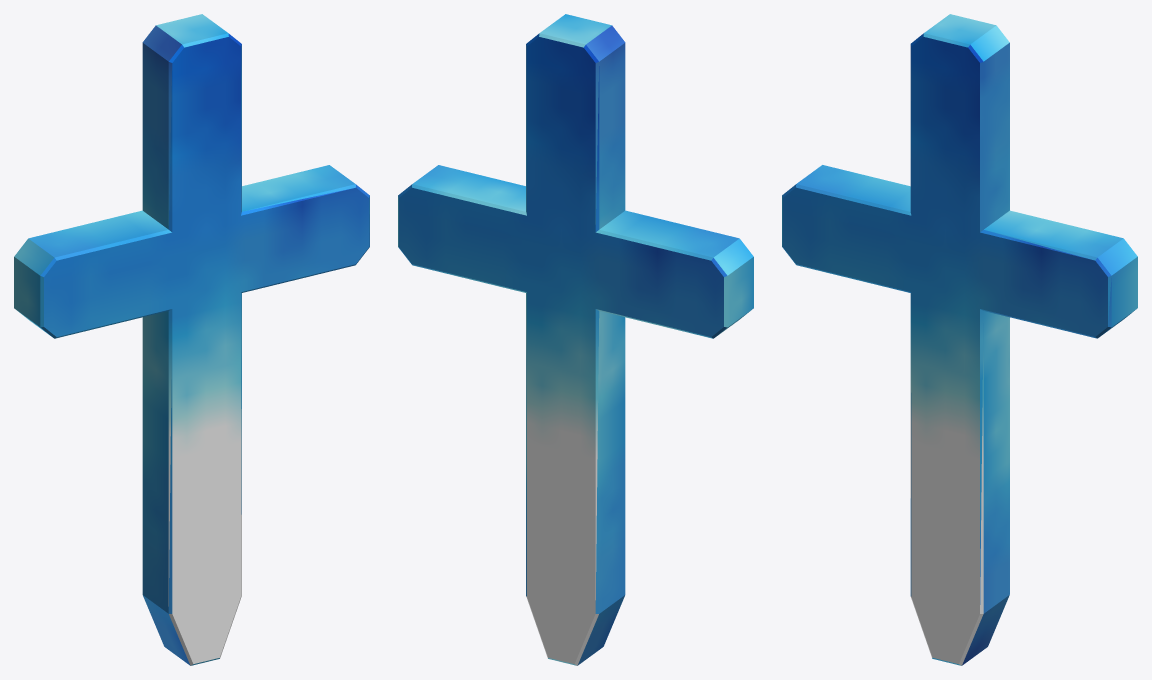
File: particle_2017_skill5_cross.FBX
The picture shows the model from 3 angles, left to right: view 1: azimuth 30°, elevation 25°; view 2: azimuth 150°, elevation 25°; view 3: azimuth 330°, elevation 25°; orthographic projection.
Visible parts, largest first — view 1: particle_2017_skill5_cross; view 2: particle_2017_skill5_cross; view 3: particle_2017_skill5_cross.
Boxes of the visible parts, left/top/right/bottom form: particle_2017_skill5_cross: left=14, top=14, right=369, bottom=665; particle_2017_skill5_cross: left=398, top=14, right=753, bottom=665; particle_2017_skill5_cross: left=782, top=14, right=1137, bottom=665.
Bounding box in the file's own units: 290 × 525 × 44.
Materials: 1 (1 with a texture image).
